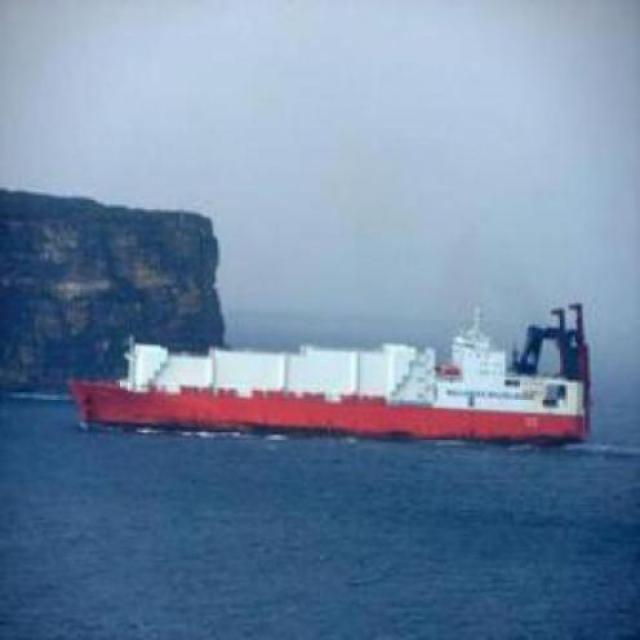boat: (54, 333, 608, 445)
